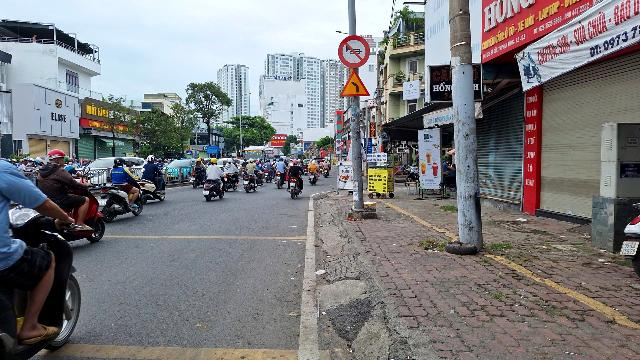cam-bop-coi: (339, 35, 370, 69)
cho-ngoat-nguy-hiem-ben-trai: (339, 70, 370, 97)
